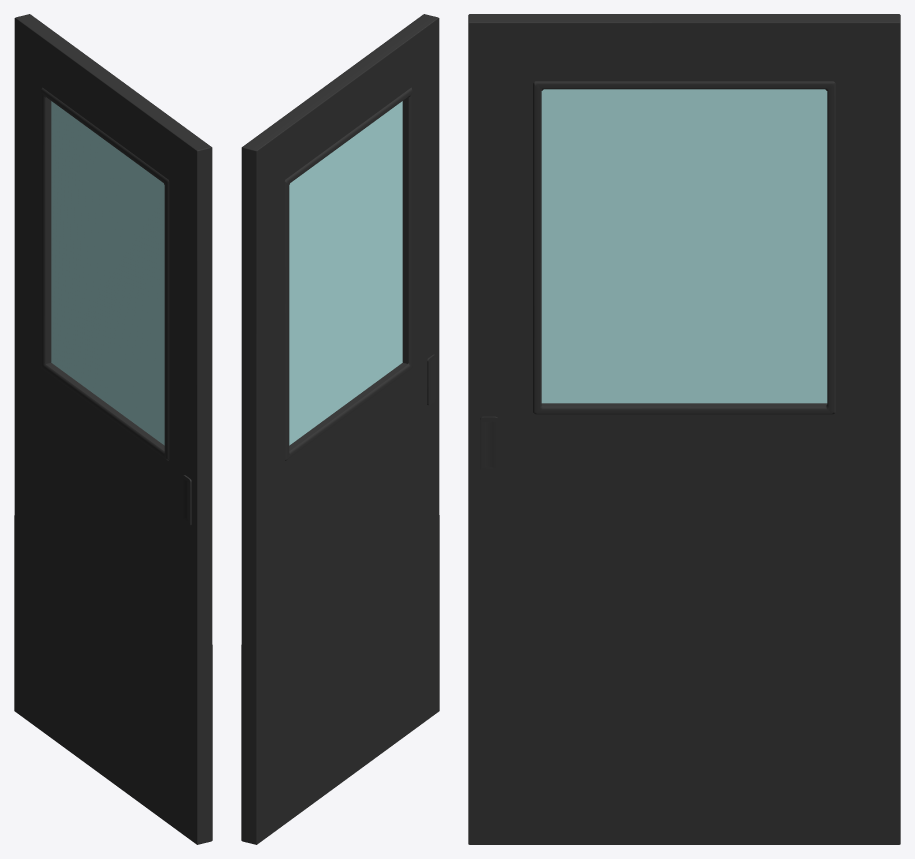
File: SM_Partition_Door.fbx
The picture shows the model from 3 angles, left to right: view 1: azimuth 30°, elevation 25°; view 2: azimuth 150°, elevation 25°; view 3: azimuth 270°, elevation 25°; orthographic projection. The views are drawn at different scales.
Parts seen in each view (by area): view 1: SM_Partition_Door_LOD0; view 2: SM_Partition_Door_LOD0; view 3: SM_Partition_Door_LOD0.
Part boxes in pixels (x1,y1,x2,y2): SM_Partition_Door_LOD0: (14, 14, 212, 844); SM_Partition_Door_LOD0: (241, 14, 439, 844); SM_Partition_Door_LOD0: (468, 14, 900, 844).
Size of the model in its own units: 6.31 by 100 by 210.
